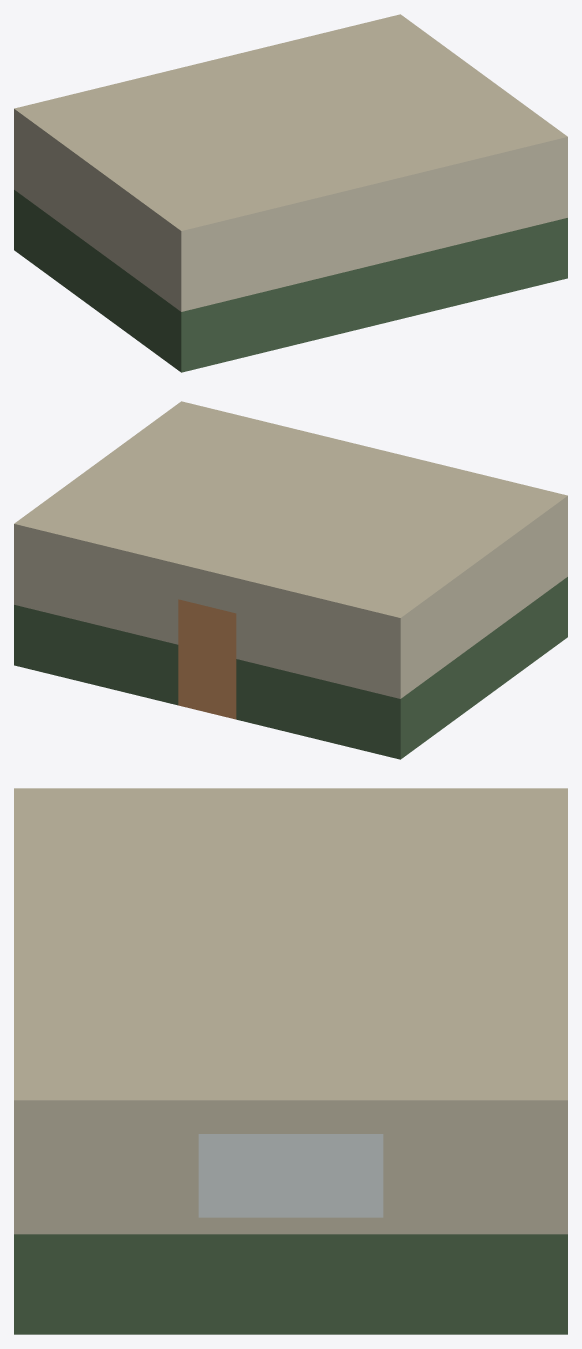
The model's file is room_hall_a.obj.
3 renders of one model, top to bottom at view 1: azimuth 30°, elevation 25°; view 2: azimuth 150°, elevation 25°; view 3: azimuth 270°, elevation 25°, orthographic. The views are drawn at different scales.
Visible parts, largest first — view 1: room_hall_a; view 2: room_hall_a; view 3: room_hall_a.
Part boxes in pixels (left/top/right/bottom): room_hall_a: left=14, top=14, right=567, bottom=372; room_hall_a: left=14, top=401, right=567, bottom=759; room_hall_a: left=14, top=788, right=567, bottom=1334.
Bounding box in the file's own units: 8 × 2.8 × 6.
